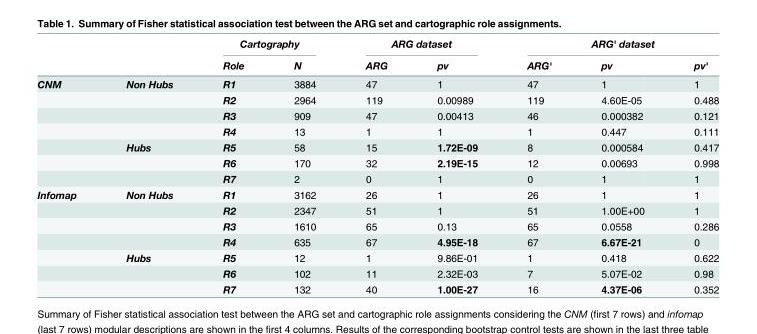table: (36, 36, 718, 295)
table column: (100, 36, 197, 295), (575, 36, 668, 295), (411, 36, 501, 295), (501, 36, 575, 295), (268, 36, 340, 295), (197, 36, 268, 295), (340, 36, 411, 295), (36, 36, 100, 295), (668, 36, 718, 295)
table column header: (36, 36, 718, 74)
table row: (36, 54, 718, 74), (36, 36, 718, 54), (36, 74, 718, 91), (36, 91, 718, 107), (36, 107, 718, 123), (36, 123, 718, 139), (36, 154, 718, 170), (36, 170, 718, 186), (36, 186, 718, 202), (36, 202, 718, 218), (36, 233, 718, 249), (36, 249, 718, 265), (36, 265, 718, 281), (36, 139, 718, 154), (36, 218, 718, 233), (36, 281, 718, 295)
table spanning cell: (36, 74, 100, 186), (36, 186, 100, 295), (501, 36, 718, 54), (340, 36, 501, 54), (197, 36, 340, 54)
